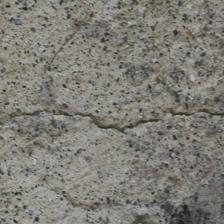Crack: (7, 53, 217, 84)
